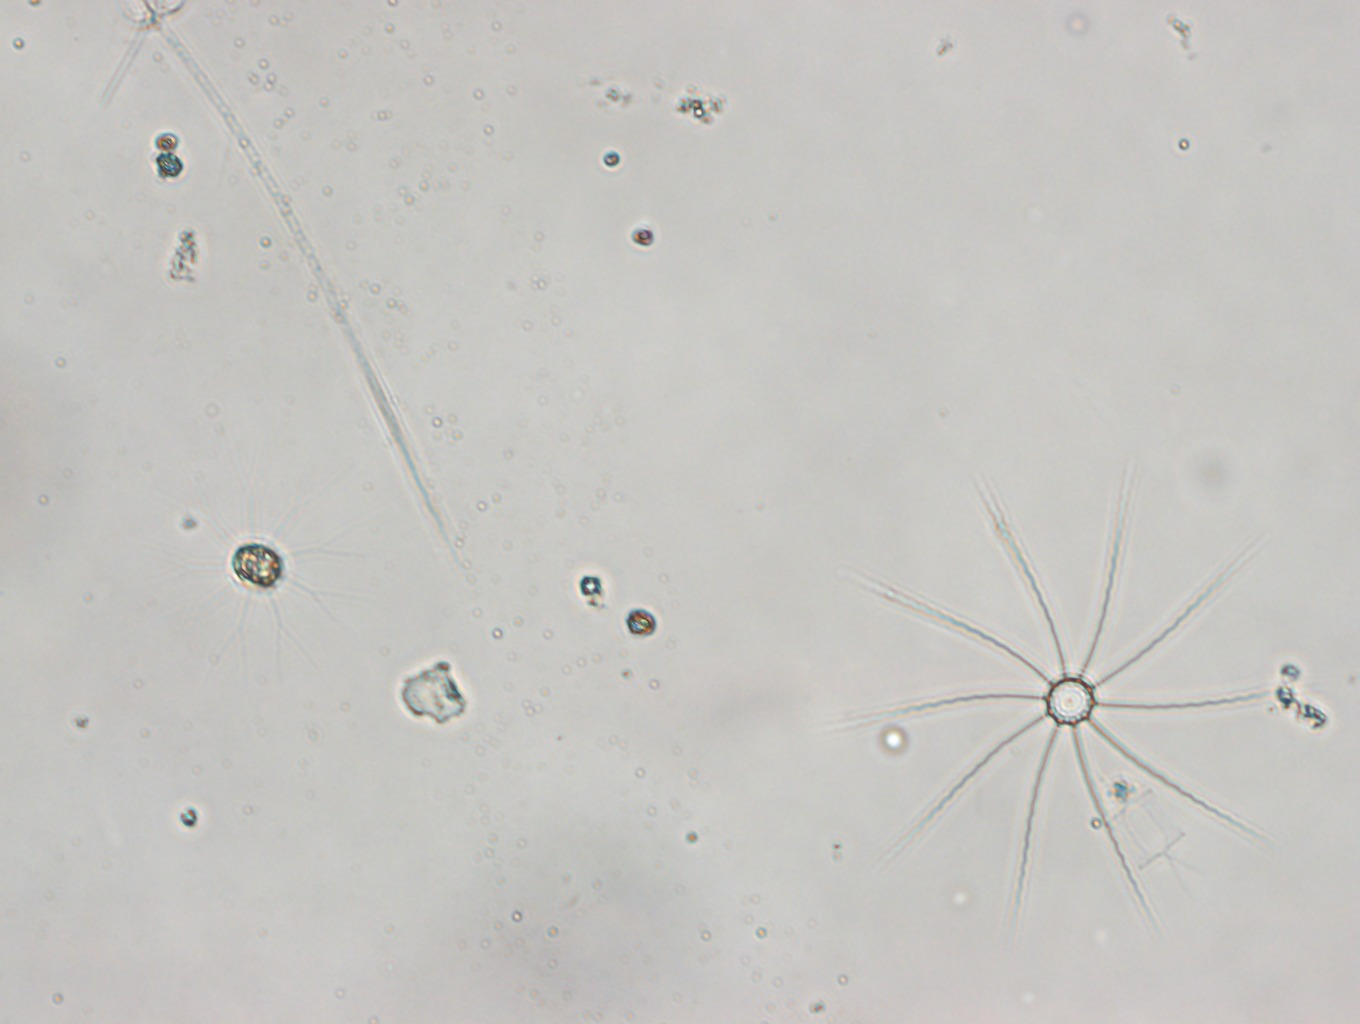bacteriastrum: (827, 461, 1304, 945)
